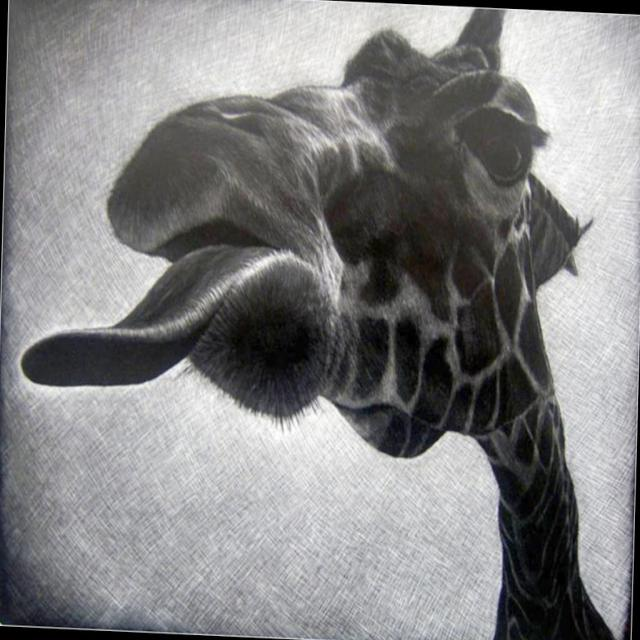Giraffe: (46, 18, 610, 640)
